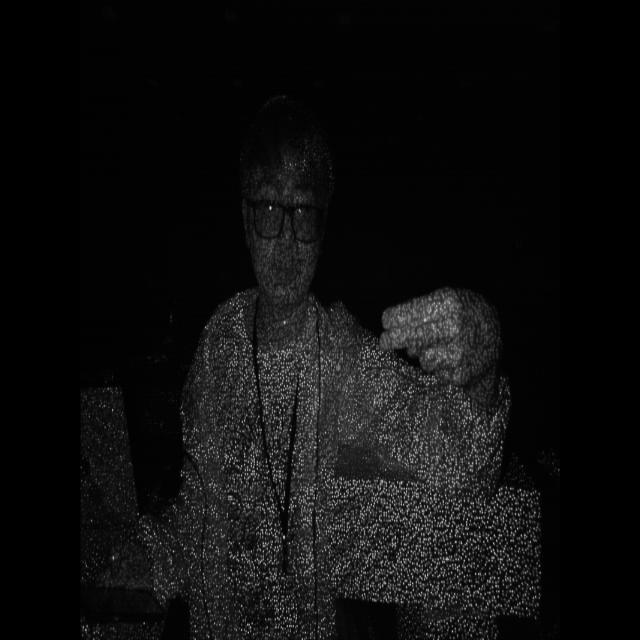H: (376, 273, 506, 393)
